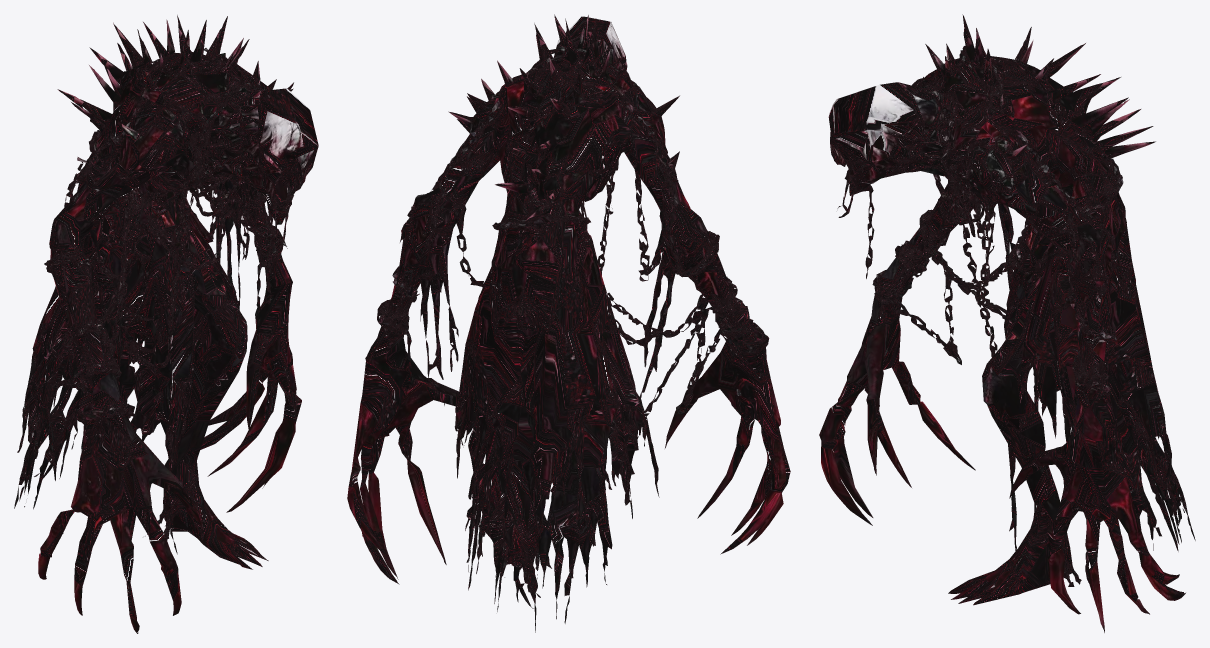
Rendered from mx_dr_watcher.glb.
The picture shows the model from 3 angles, left to right: view 1: azimuth 30°, elevation 25°; view 2: azimuth 150°, elevation 25°; view 3: azimuth 270°, elevation 25°; orthographic projection. The views are drawn at different scales.
Visible parts, largest first — view 1: Mesh_0; view 2: Mesh_0; view 3: Mesh_0.
Boxes of the visible parts, box(x1,y1,x2,y2) form: Mesh_0: box(14, 15, 318, 633); Mesh_0: box(347, 14, 790, 632); Mesh_0: box(819, 14, 1195, 632).
Bounding box in the file's own units: 1.23 × 1.9 × 1.17.
Materials: 1 (1 with a texture image).
